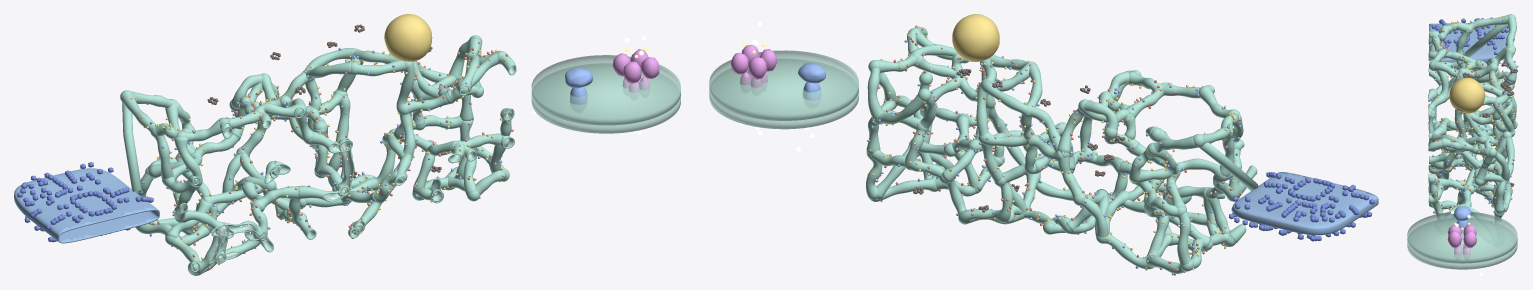
The model's file is smooth_er.glb.
3 renders of one model, left to right at view 1: azimuth 30°, elevation 25°; view 2: azimuth 150°, elevation 25°; view 3: azimuth 270°, elevation 25°, orthographic. The views are drawn at different scales.
Visible parts, largest first — view 1: SER Tubules, ER Membrane Patch (cytosolic leaflet), ER Membrane Patch (lumenal leaflet), Rough ER Sheet (context), Ribosomes (context), Lipid Droplet, SER Lumen, IP3 Receptor Channel, Lipid Synthesis Enzymes, Cytochrome P450 Enzymes, SERCA Calcium Pumps, Sheet-Tubule Junction (+2 smaller); view 2: SER Tubules, ER Membrane Patch (cytosolic leaflet), ER Membrane Patch (lumenal leaflet), Rough ER Sheet (context), Ribosomes (context), Lipid Droplet, IP3 Receptor Channel, Cytochrome P450 Enzymes, SERCA Calcium Pumps, Lipid Synthesis Enzymes, SERCA Pump, Sheet-Tubule Junction (+1 smaller); view 3: SER Tubules, ER Membrane Patch (cytosolic leaflet), ER Membrane Patch (lumenal leaflet), Rough ER Sheet (context), Lipid Droplet, IP3 Receptor Channel, Ribosomes (context), Lipid Synthesis Enzymes, Cytochrome P450 Enzymes, SERCA Calcium Pumps, Sheet-Tubule Junction, SERCA Pump (+2 smaller).
Part boxes in pixels (x1,y1,x2,y2): SER Tubules: (120, 35, 516, 275); ER Membrane Patch (cytosolic leaflet): (531, 55, 680, 125); ER Membrane Patch (lumenal leaflet): (531, 64, 680, 133); Rough ER Sheet (context): (14, 168, 159, 243); Ribosomes (context): (17, 162, 153, 242); Lipid Droplet: (384, 14, 432, 61); SER Lumen: (180, 66, 515, 270); IP3 Receptor Channel: (612, 49, 659, 93); Lipid Synthesis Enzymes: (130, 49, 504, 274); Cytochrome P450 Enzymes: (143, 41, 513, 269); SERCA Calcium Pumps: (135, 47, 502, 249); Sheet-Tubule Junction: (122, 101, 142, 193); SER Tubules: (866, 26, 1257, 273); ER Membrane Patch (cytosolic leaflet): (709, 50, 858, 120); ER Membrane Patch (lumenal leaflet): (709, 59, 858, 129); Rough ER Sheet (context): (1232, 172, 1378, 235); Ribosomes (context): (1228, 172, 1374, 241); Lipid Droplet: (952, 14, 999, 61); IP3 Receptor Channel: (731, 45, 777, 88); Cytochrome P450 Enzymes: (873, 25, 1241, 275); SERCA Calcium Pumps: (867, 33, 1241, 275); Lipid Synthesis Enzymes: (867, 34, 1236, 270); SERCA Pump: (798, 63, 825, 100); Sheet-Tubule Junction: (1199, 142, 1258, 190); SER Tubules: (1428, 14, 1517, 224); ER Membrane Patch (cytosolic leaflet): (1407, 212, 1517, 263); ER Membrane Patch (lumenal leaflet): (1407, 218, 1517, 269); Rough ER Sheet (context): (1429, 23, 1509, 63); Lipid Droplet: (1449, 77, 1484, 113); IP3 Receptor Channel: (1447, 224, 1476, 255); Ribosomes (context): (1431, 17, 1508, 65); Lipid Synthesis Enzymes: (1431, 15, 1515, 224); Cytochrome P450 Enzymes: (1430, 40, 1515, 213); SERCA Calcium Pumps: (1431, 19, 1518, 215); Sheet-Tubule Junction: (1464, 24, 1507, 57); SERCA Pump: (1453, 206, 1471, 233).
Size of the model in its own units: 27.67 by 7.89 by 5.66.
